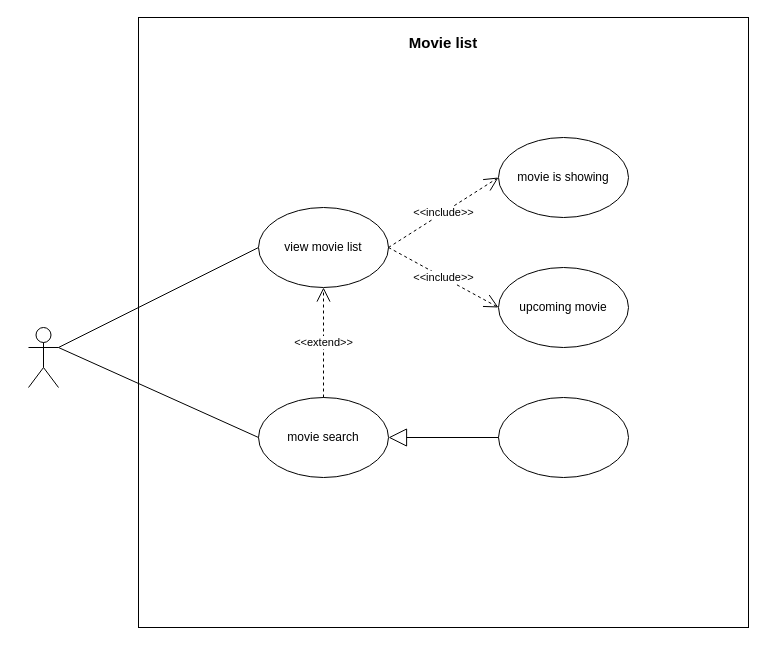
The diagram is 766 pixels wide and 645 high, and some of its shapes have lost their labels. Here are the shapes that lost their labels. From the top down, the centre of each, then its label:
At (43,357): "Employee".
At (563,437): "search by movie name".
